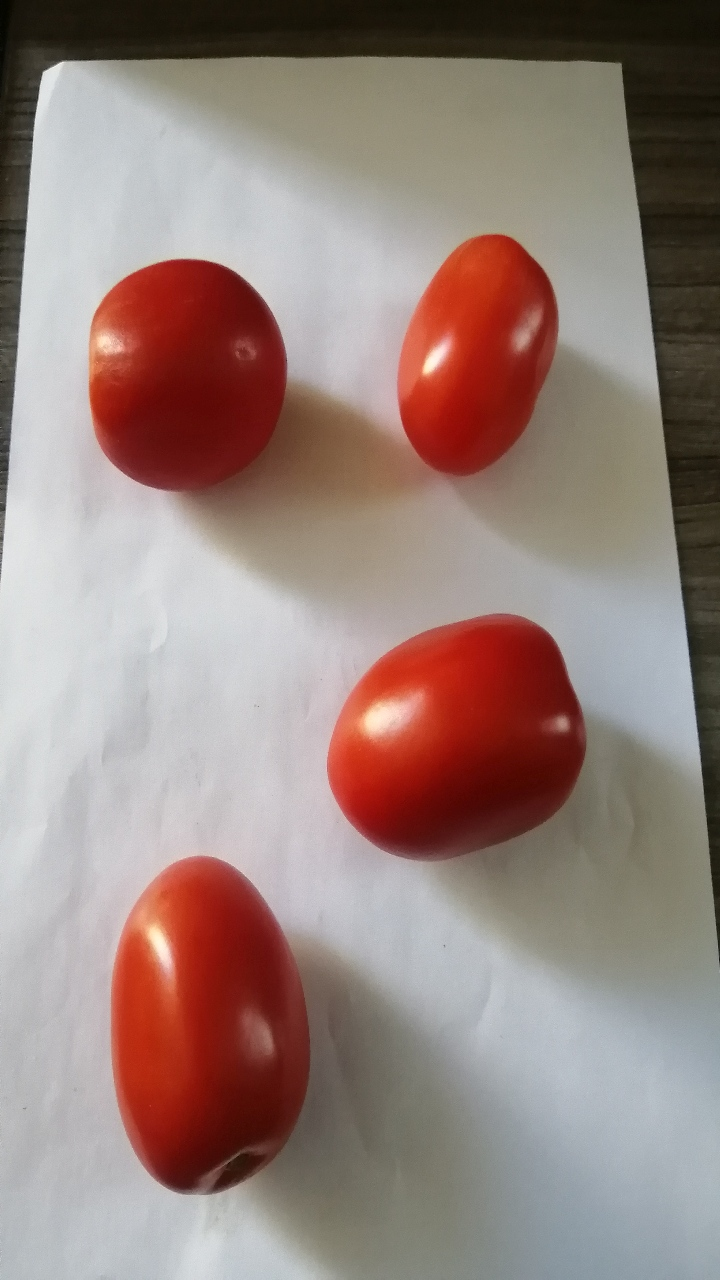tomateRojo: (84, 842, 314, 1219), (297, 602, 611, 863), (64, 239, 311, 515), (372, 205, 591, 497)
